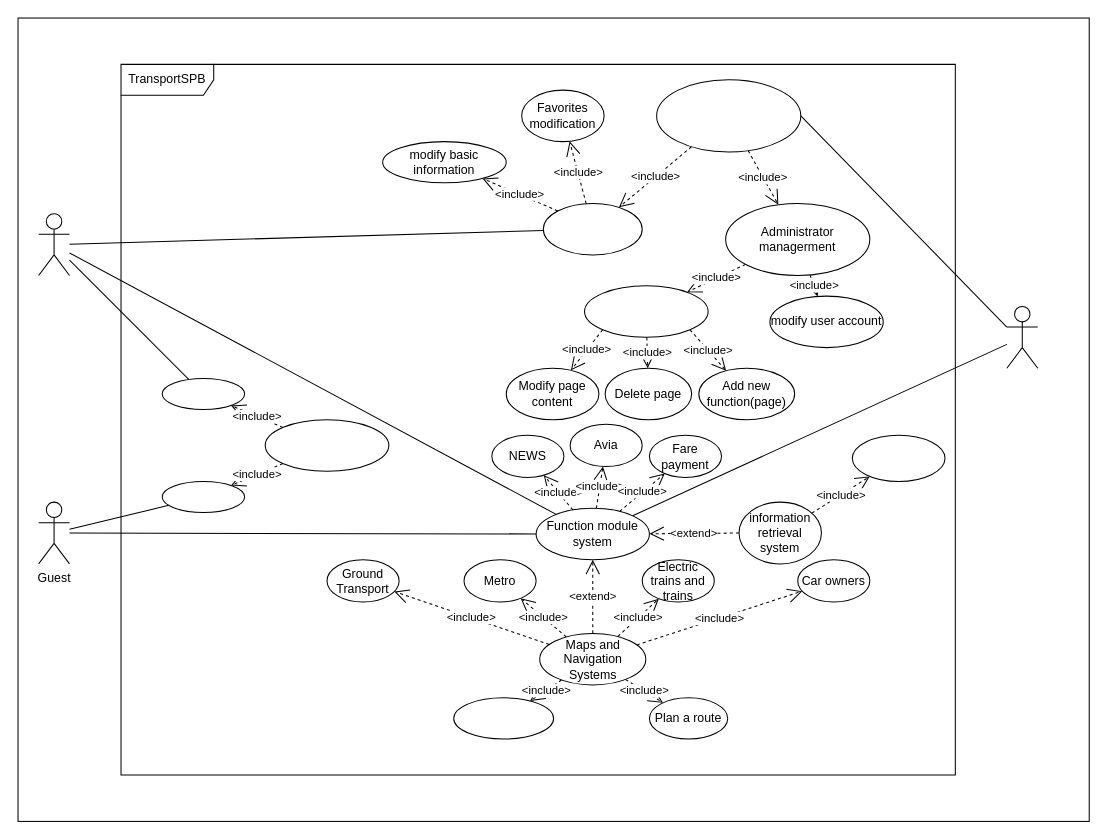
The diagram is 1107 pixels wide and 839 high, and some of its shapes have lost their labels. Each missing label, with the centre of its shape:
Administrator: (x=1022, y=336)
Login: (x=203, y=393)
Login and register System: (x=326, y=445)
modify recommend system: (x=645, y=311)
Real-time information query: (x=898, y=458)
register: (x=203, y=496)
Show real-time traffic conditions: (x=503, y=718)
System managermnet: (x=728, y=115)
User: (x=54, y=244)
User manager: (x=592, y=228)
